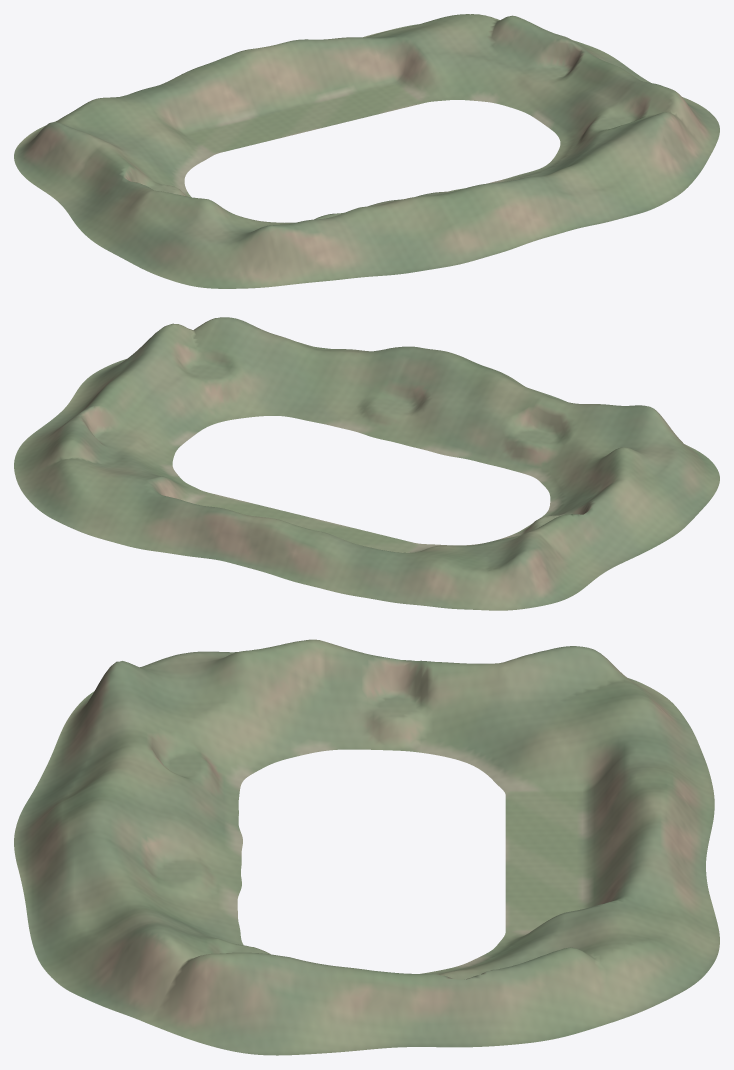
3 renders of one model, top to bottom at view 1: azimuth 30°, elevation 25°; view 2: azimuth 150°, elevation 25°; view 3: azimuth 270°, elevation 25°, orthographic. The views are drawn at different scales.
Parts seen in each view (by area): view 1: STAGE2 Outer River Valley Terrain; view 2: STAGE2 Outer River Valley Terrain; view 3: STAGE2 Outer River Valley Terrain.
Boxes of the visible parts, <box> form: STAGE2 Outer River Valley Terrain: <box>14,14,719,288</box>; STAGE2 Outer River Valley Terrain: <box>14,317,719,610</box>; STAGE2 Outer River Valley Terrain: <box>14,639,719,1055</box>.
Size of the model in its own units: 699 by 59.45 by 524.
